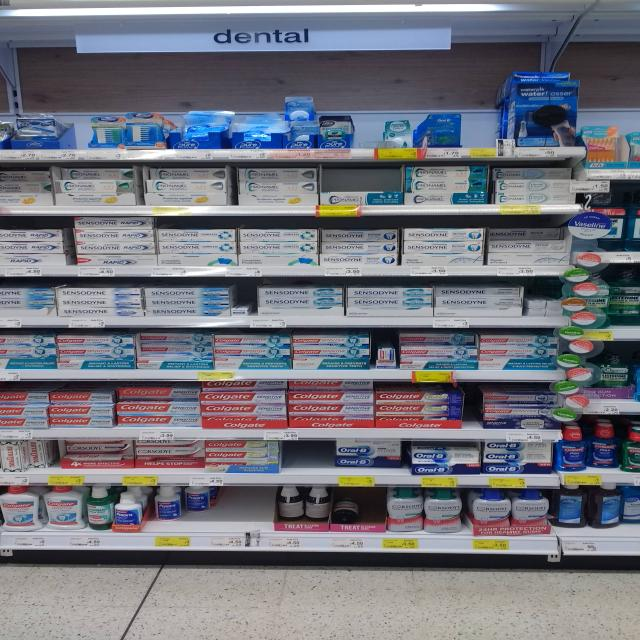void: (222, 489, 272, 521), (286, 442, 331, 466), (464, 111, 494, 146), (361, 116, 382, 147)
